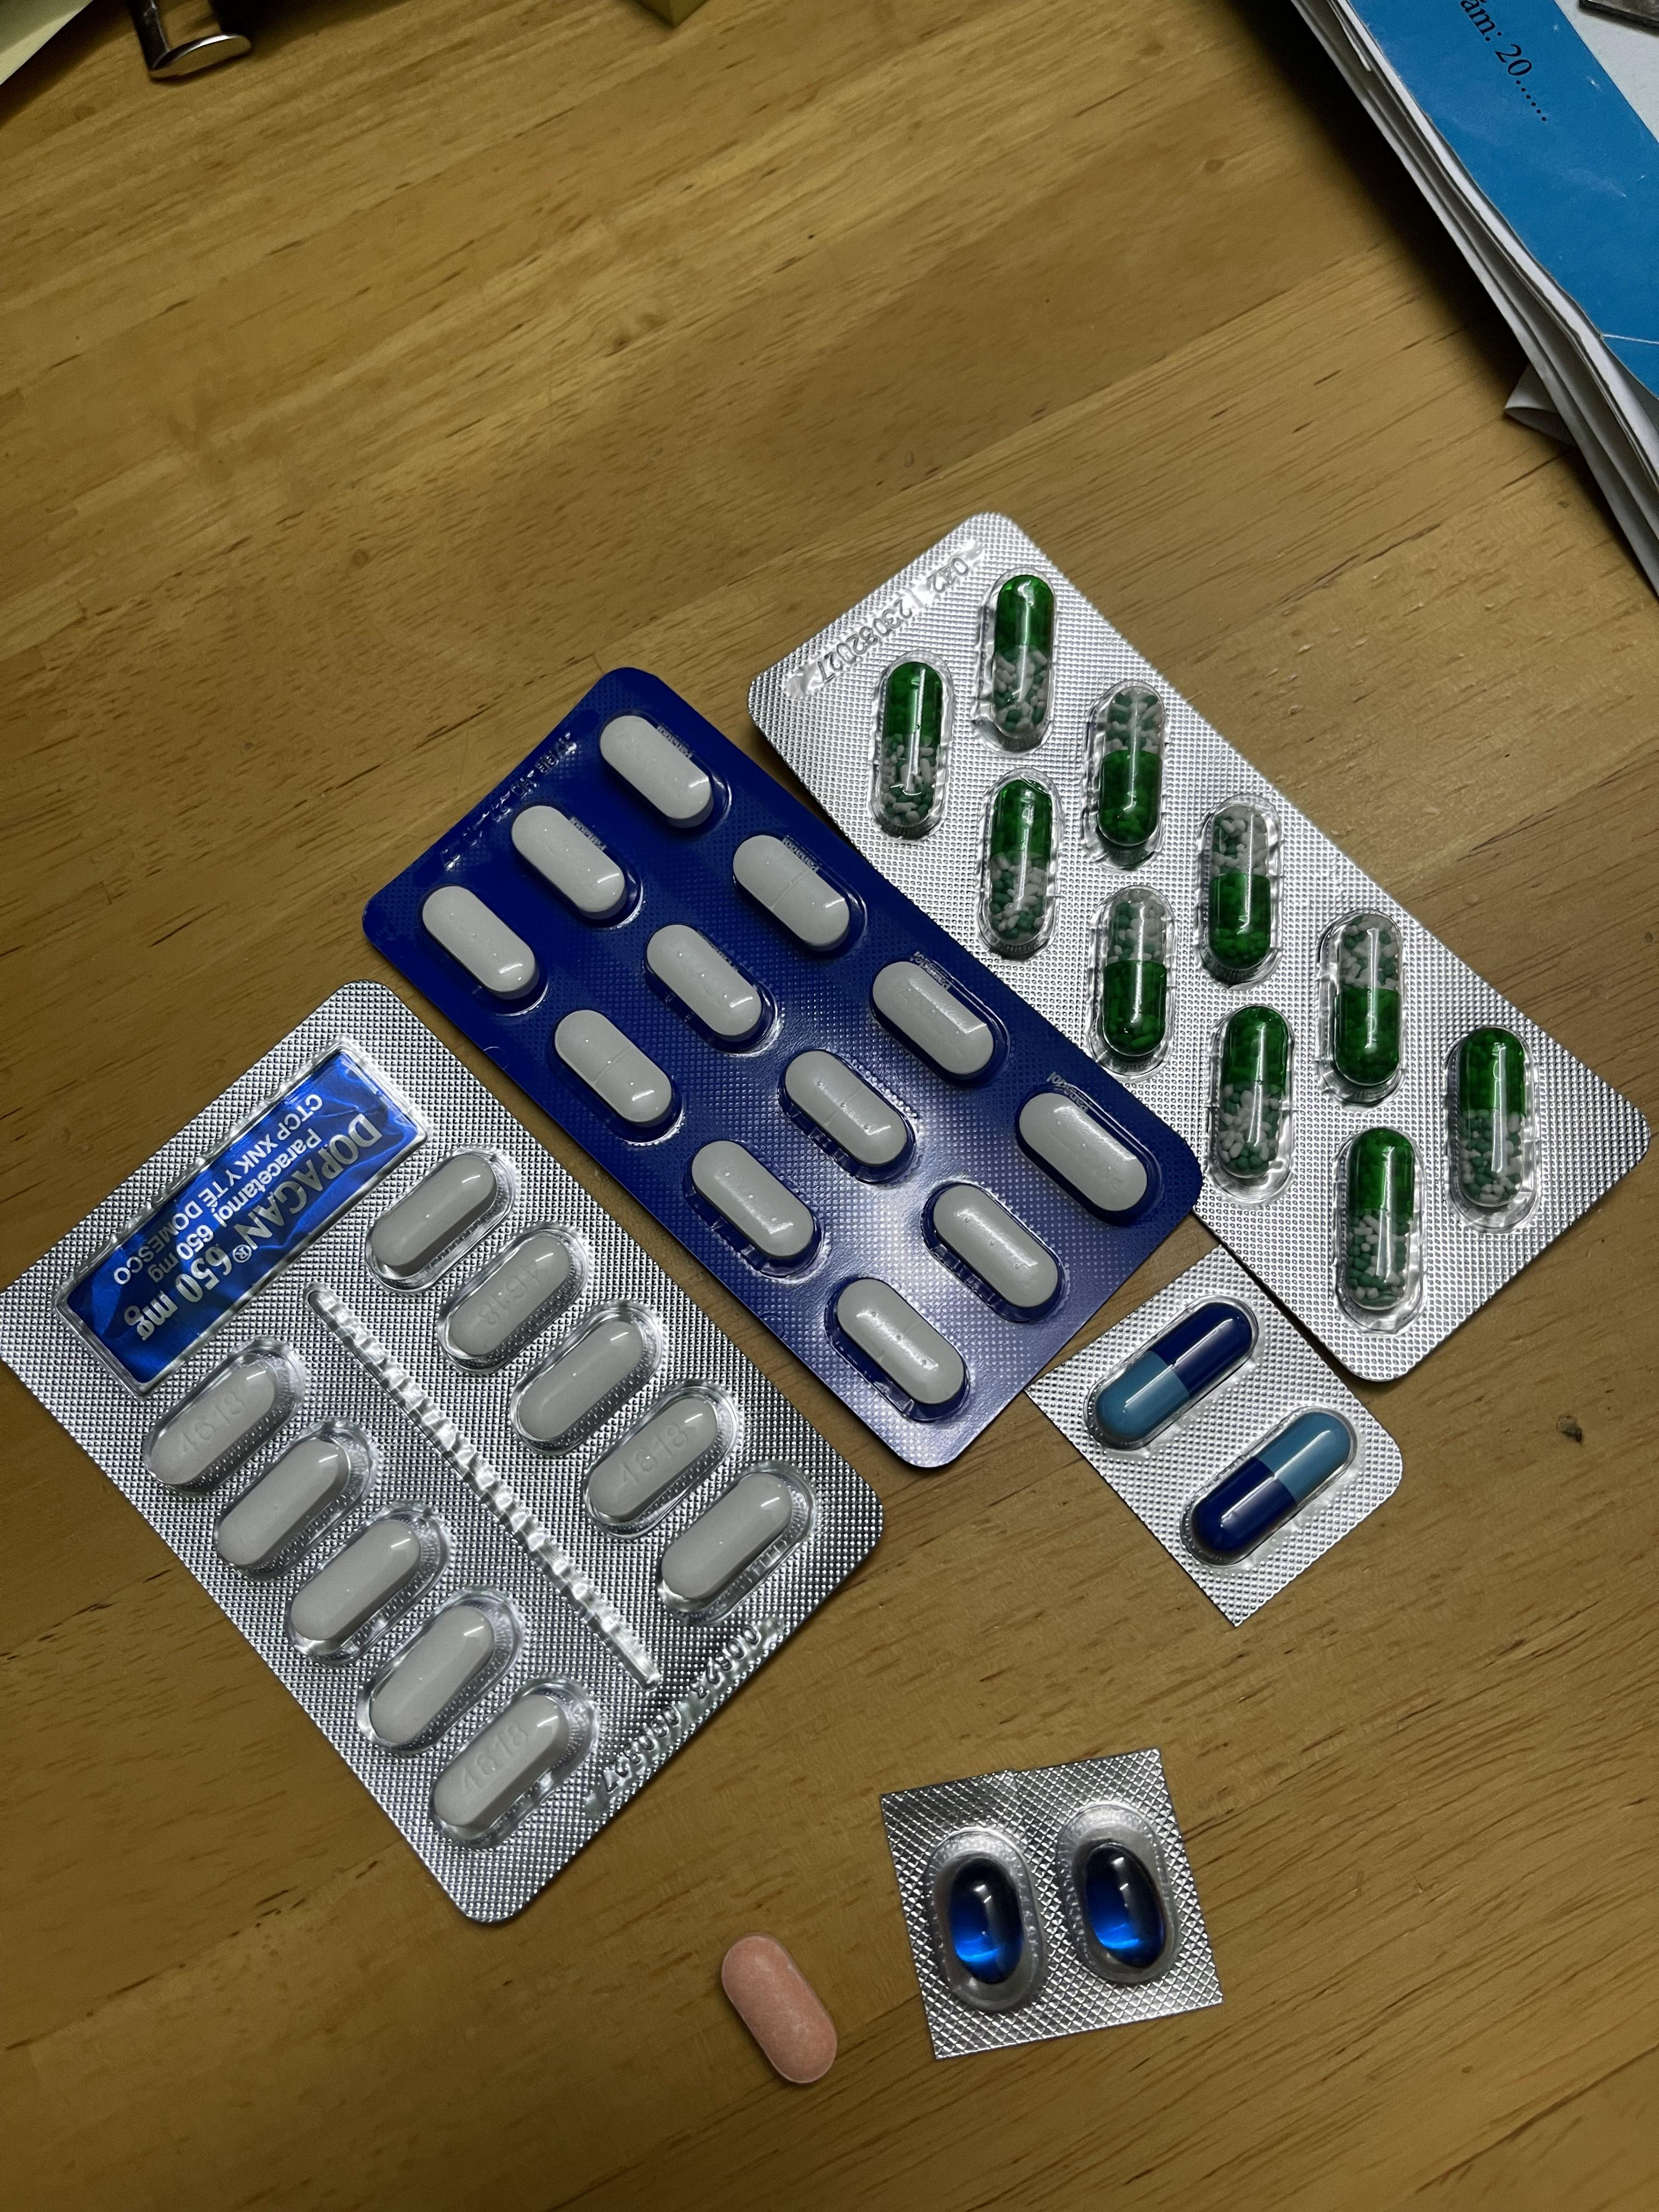Lincomyxin_500mg: (1082, 1843, 1164, 1963), (948, 1864, 1021, 1979)
Loratadine_10mg: (720, 1935, 838, 2083)
Paracetamol_350mg: (1016, 1087, 1148, 1224), (927, 1179, 1060, 1313), (833, 1275, 965, 1409), (645, 921, 769, 1050), (871, 958, 997, 1083), (732, 833, 857, 956), (690, 1139, 816, 1263), (554, 1007, 674, 1134), (784, 1052, 906, 1174), (511, 801, 631, 925), (598, 712, 720, 833), (420, 881, 538, 1001)
Paracetamol_500mg: (275, 1498, 446, 1665), (354, 1581, 519, 1747), (141, 1336, 305, 1493), (507, 1299, 666, 1456), (584, 1376, 739, 1531), (211, 1425, 369, 1573), (653, 1467, 805, 1620), (432, 1226, 586, 1369), (432, 1689, 573, 1832), (366, 1157, 509, 1289)
Paracetamol_650mg: (981, 777, 1060, 956), (1215, 1005, 1293, 1181), (1344, 1127, 1415, 1312), (1328, 911, 1403, 1087), (1096, 887, 1171, 1061), (1091, 685, 1164, 855), (1457, 1031, 1527, 1207), (983, 575, 1054, 744), (1204, 803, 1274, 970), (877, 660, 945, 831)
pill: (1194, 1413, 1354, 1554), (1100, 1303, 1251, 1440)
